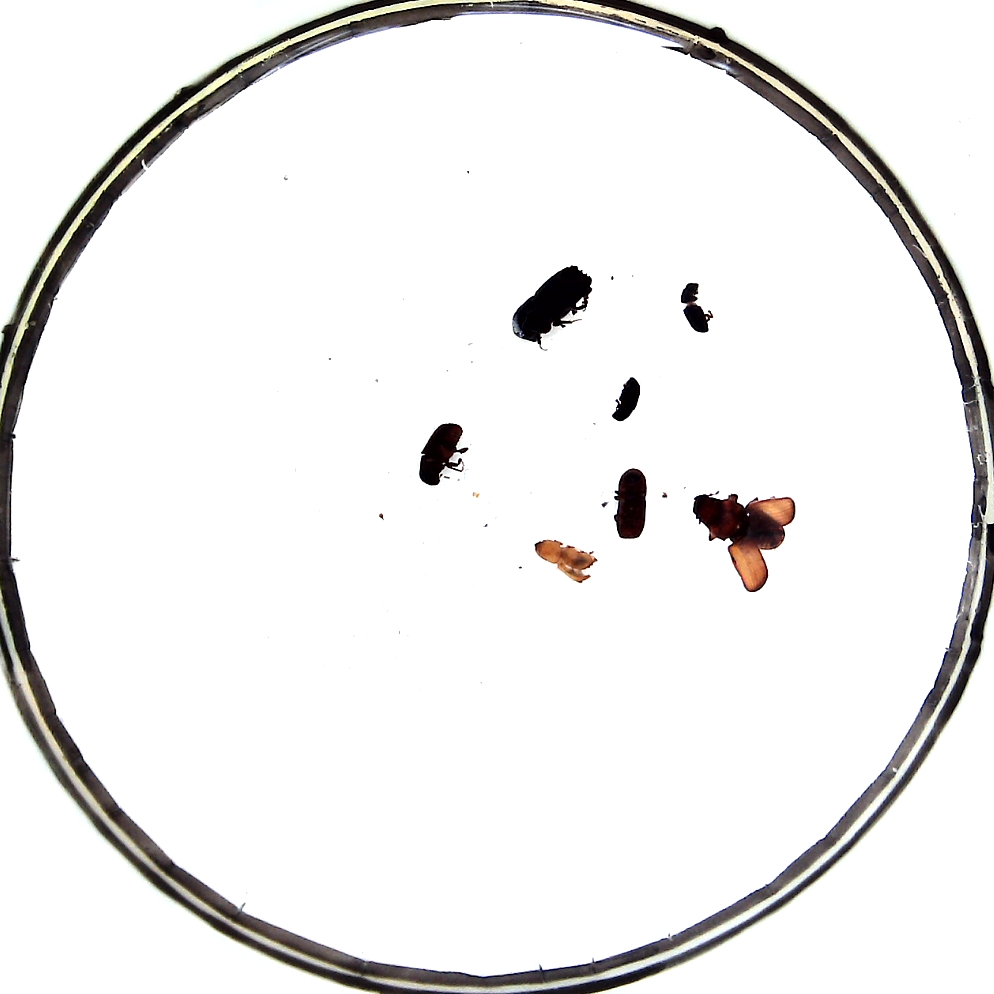Boerner: (513, 265, 593, 341)
Leconte: (692, 493, 785, 550)
acuminatus: (681, 282, 710, 333), (612, 378, 641, 421)
armandi: (418, 422, 462, 485)
coleoptera: (535, 540, 598, 582)
linnaeus: (617, 469, 648, 540)
